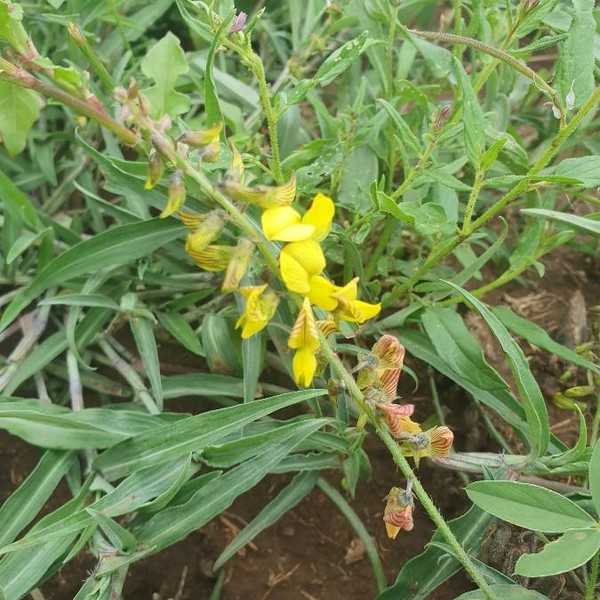obstacle: (74, 93, 548, 583), (23, 196, 277, 555), (278, 19, 541, 229)
